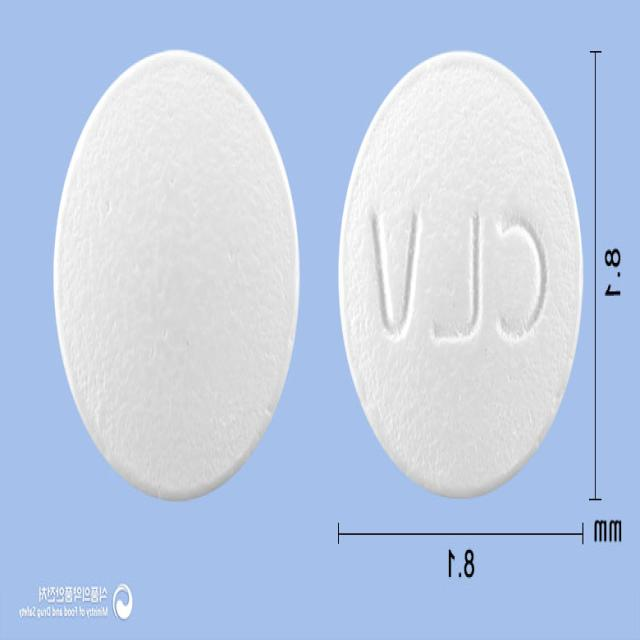Cefsin Cap: (337, 50, 584, 501), (53, 49, 299, 500)
